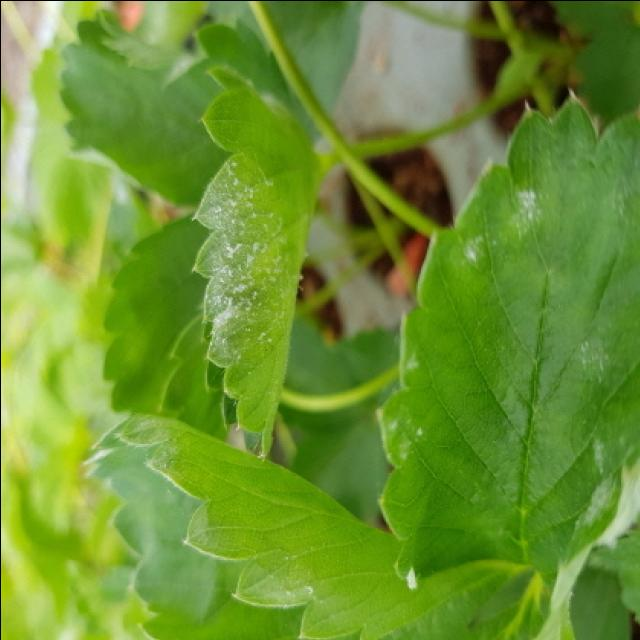Powdery Mildew Leaf: (376, 87, 640, 612), (189, 64, 326, 461)
